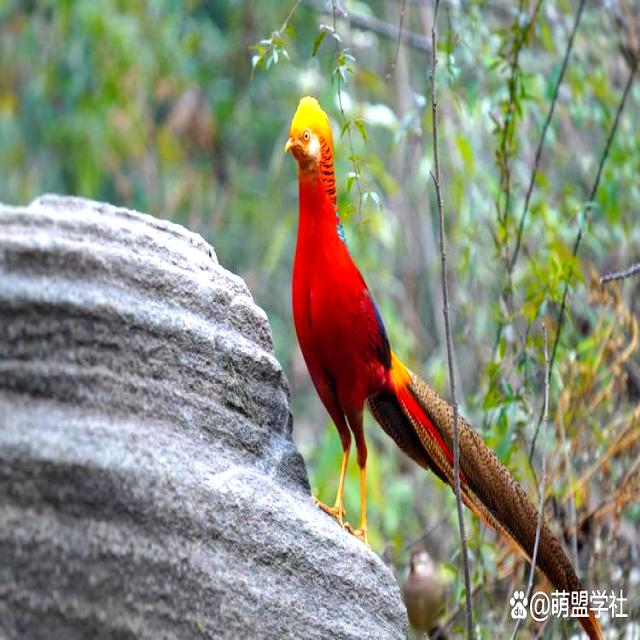Chrysolophus pictus feather: (367, 357, 585, 594)
